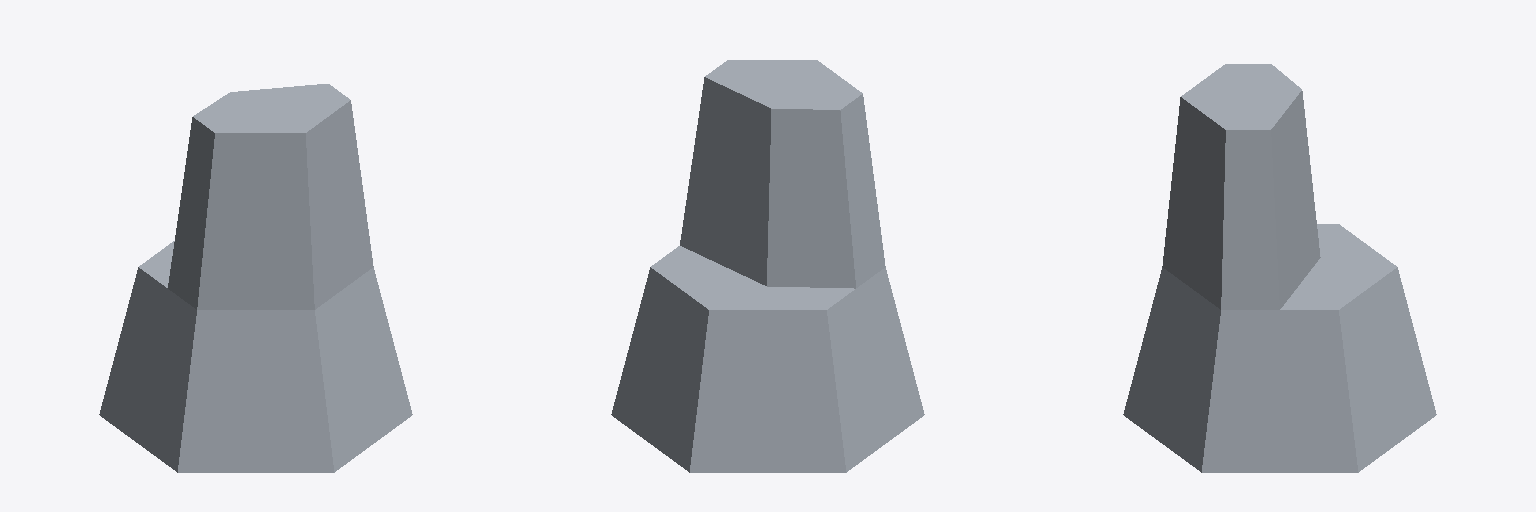
3 views of the same model, side by side, from view 1: azimuth 30°, elevation 25°; view 2: azimuth 150°, elevation 25°; view 3: azimuth 270°, elevation 25° (orthographic).
Parts seen in each view (by area): view 1: Mesh1 Tall_Rock_1 Model; view 2: Mesh1 Tall_Rock_1 Model; view 3: Mesh1 Tall_Rock_1 Model.
Boxes of the visible parts, x1=… form: Mesh1 Tall_Rock_1 Model: x1=99, y1=84, x2=412, y2=472; Mesh1 Tall_Rock_1 Model: x1=611, y1=60, x2=924, y2=472; Mesh1 Tall_Rock_1 Model: x1=1123, y1=64, x2=1436, y2=472.
Bounding box in the file's own units: 1.23 × 1.59 × 1.42.
Materials: 1 (1 with a texture image).